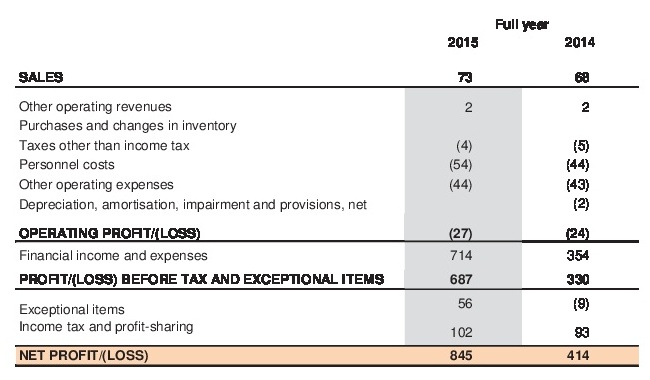table: (0, 0, 650, 380)
